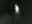person: (15, 5, 21, 16)
